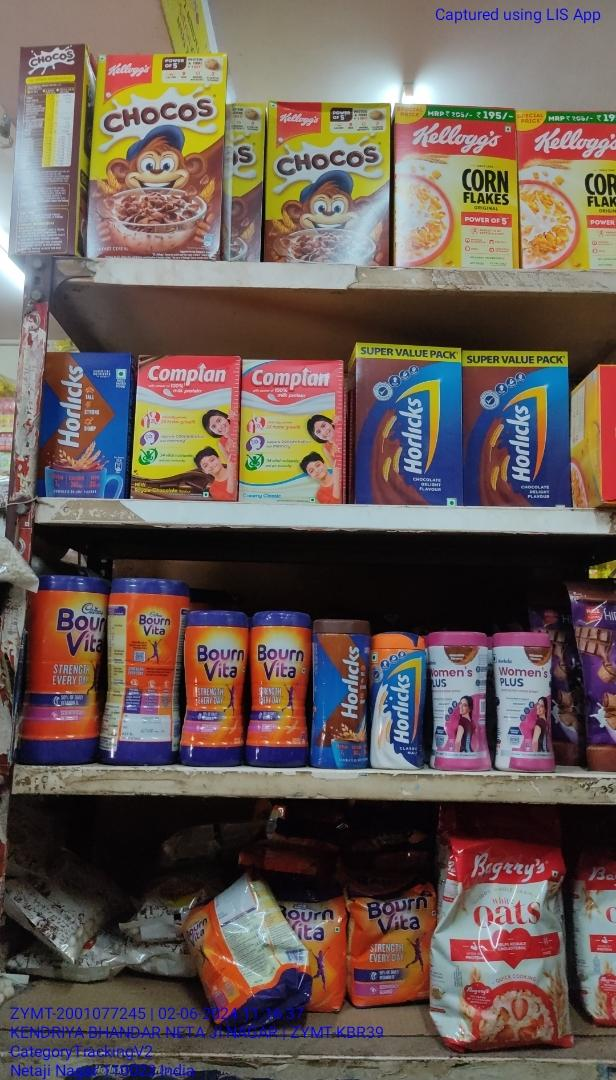HORLICK_CLASSIC_MALT_500_G_JAR: (371, 631, 425, 770)
